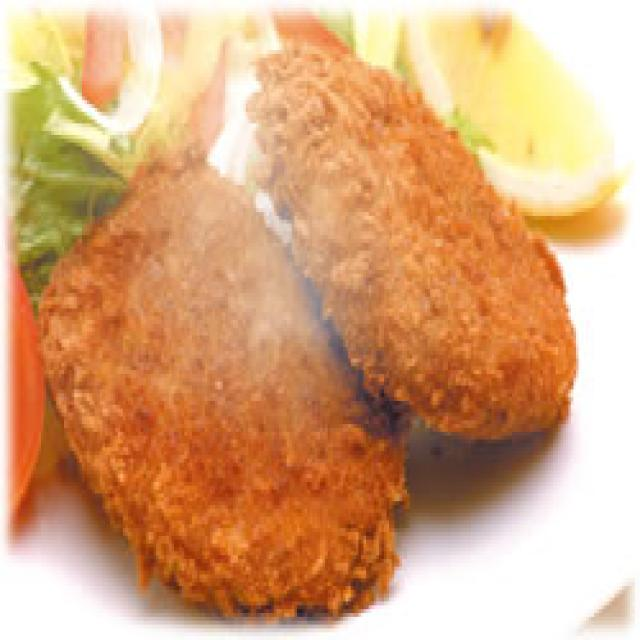炸货点心: (33, 58, 571, 574)
